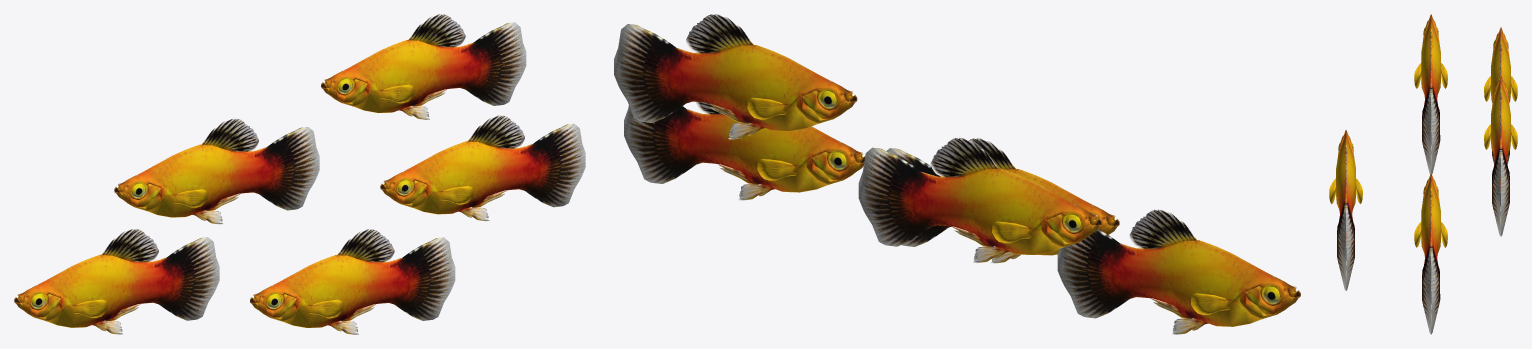
The model's file is platy.fbx.
The picture shows the model from 3 angles, left to right: view 1: azimuth 30°, elevation 25°; view 2: azimuth 150°, elevation 25°; view 3: azimuth 270°, elevation 25°; orthographic projection. The views are drawn at different scales.
Visible parts, largest first — view 1: Cube, Cube.003, Cube.002, Cube.004, Cube.001; view 2: Cube.003, Cube.004, Cube.002, Cube.001, Cube; view 3: Cube.001, Cube, Cube.002, Cube.004, Cube.003.
Part boxes in pixels (<box>): Cube: <box>250,229,455,334</box>; Cube.003: <box>114,118,319,224</box>; Cube.002: <box>14,229,219,334</box>; Cube.004: <box>321,14,526,119</box>; Cube.001: <box>380,115,585,221</box>; Cube.003: <box>858,138,1101,263</box>; Cube.004: <box>614,14,857,139</box>; Cube.002: <box>1057,209,1300,334</box>; Cube.001: <box>624,102,865,200</box>; Cube: <box>886,138,1119,263</box>; Cube.001: <box>1414,173,1447,334</box>; Cube: <box>1329,130,1362,290</box>; Cube.002: <box>1414,14,1447,174</box>; Cube.004: <box>1484,75,1517,236</box>; Cube.003: <box>1484,27,1517,164</box>.
Bounding box in the file's own units: 858 × 331 × 238.
2 materials, 2 textured.
